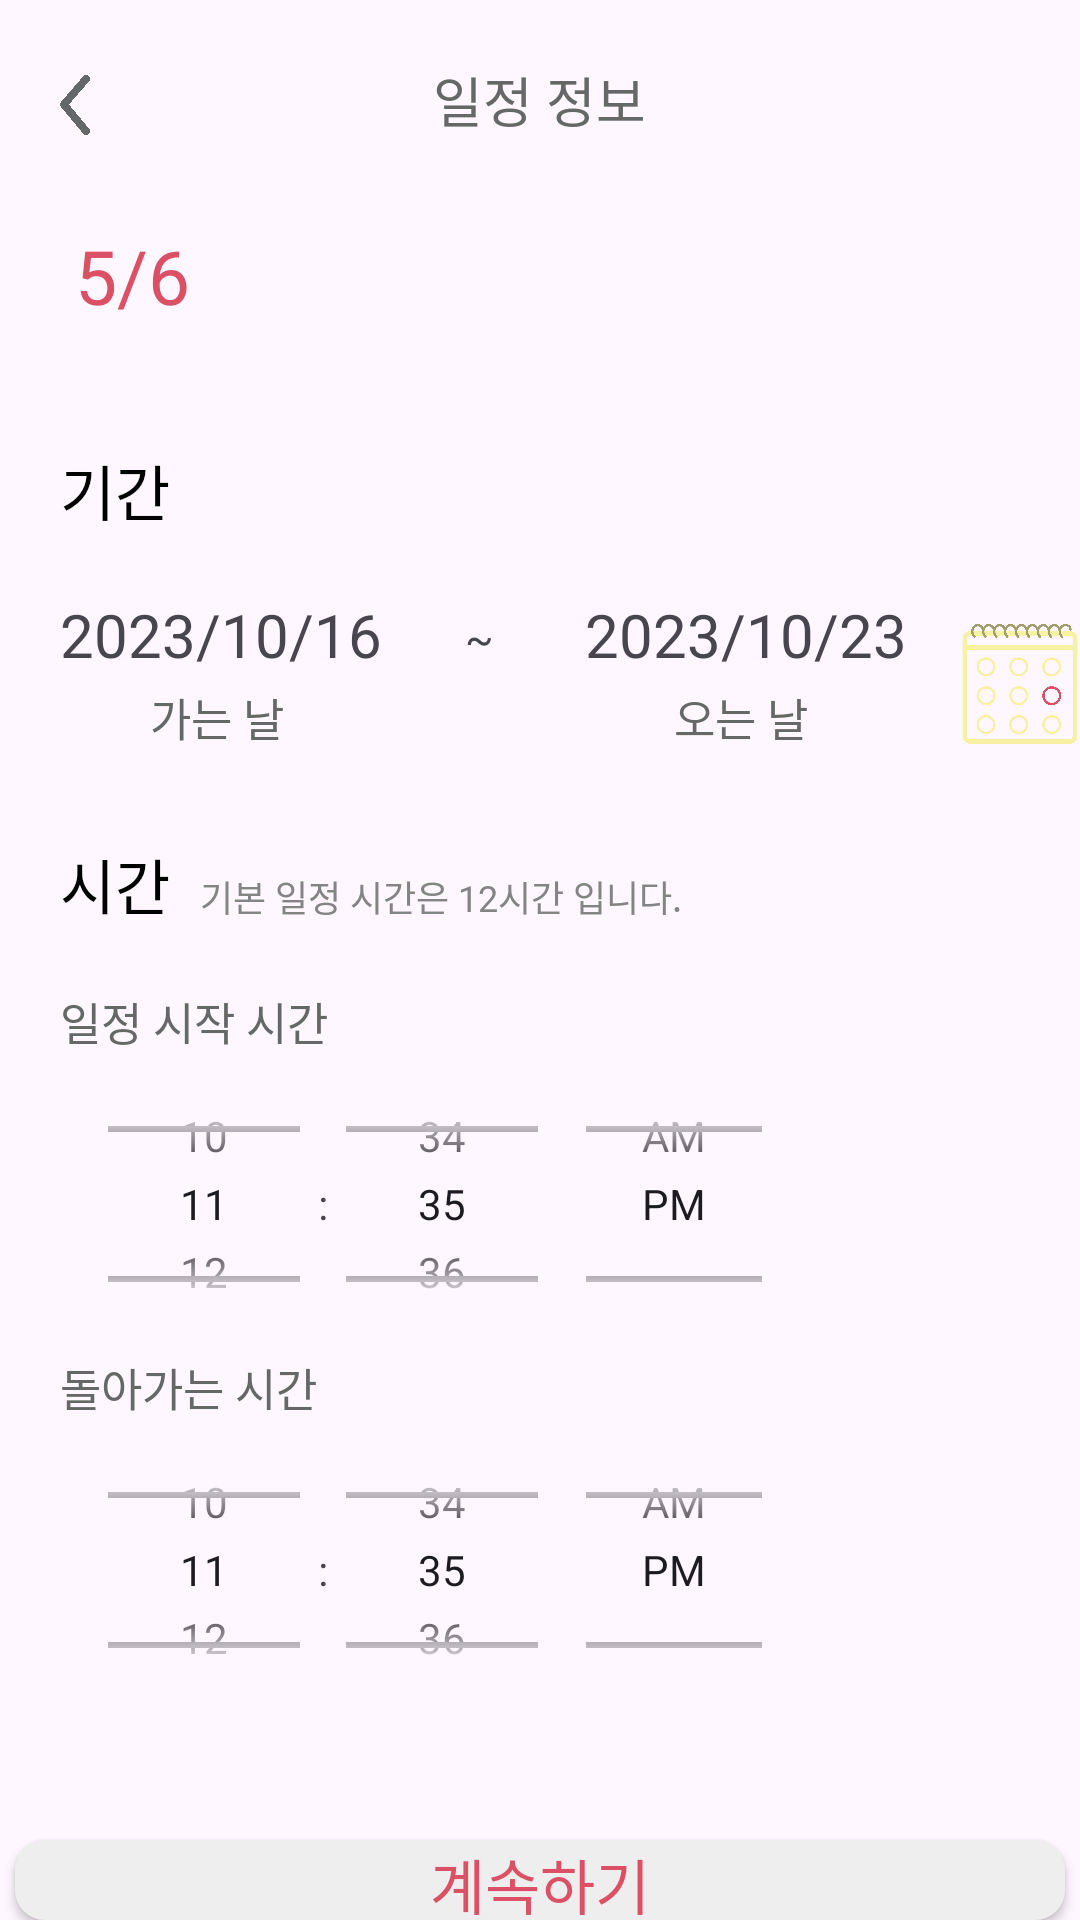

Where icons sit on this 1080x1920 app screen, as (x1, y1, x2, y2):
calendar: (963, 624, 1077, 744)
wlsback: (60, 75, 90, 135)
